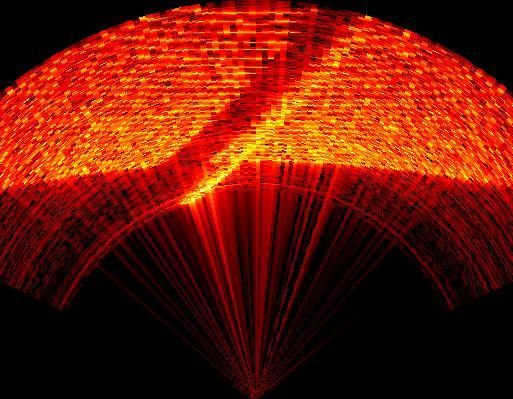pipe: (148, 10, 368, 174)
